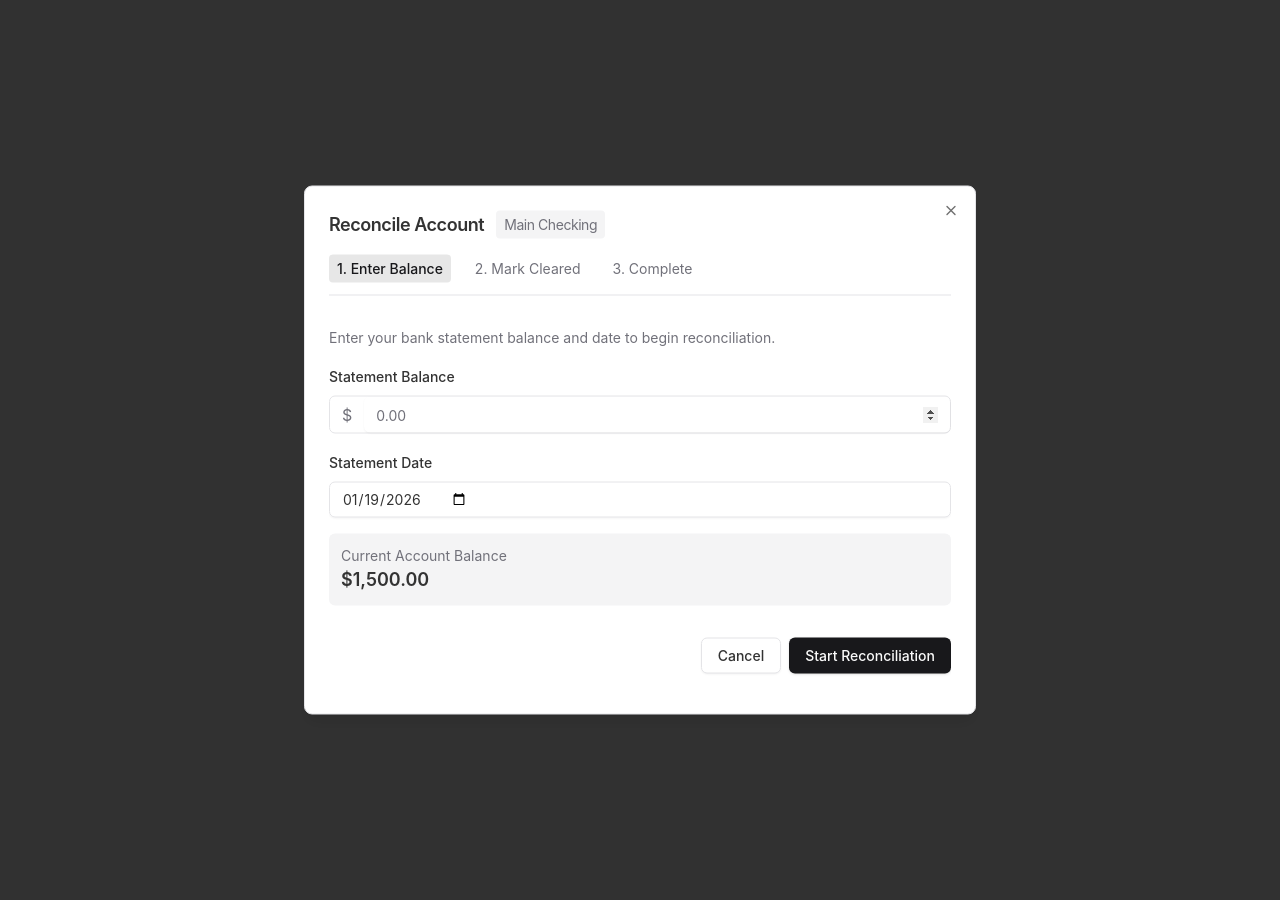
Test: ReconcileModal › Step 3 - Complete Reconciliation › should show success message when balanced
Type "1500.00" into the number field labelled "Statement Balance".
click(657, 414); type("1500.00")  # box x1=364 y1=396 x2=950 y2=432
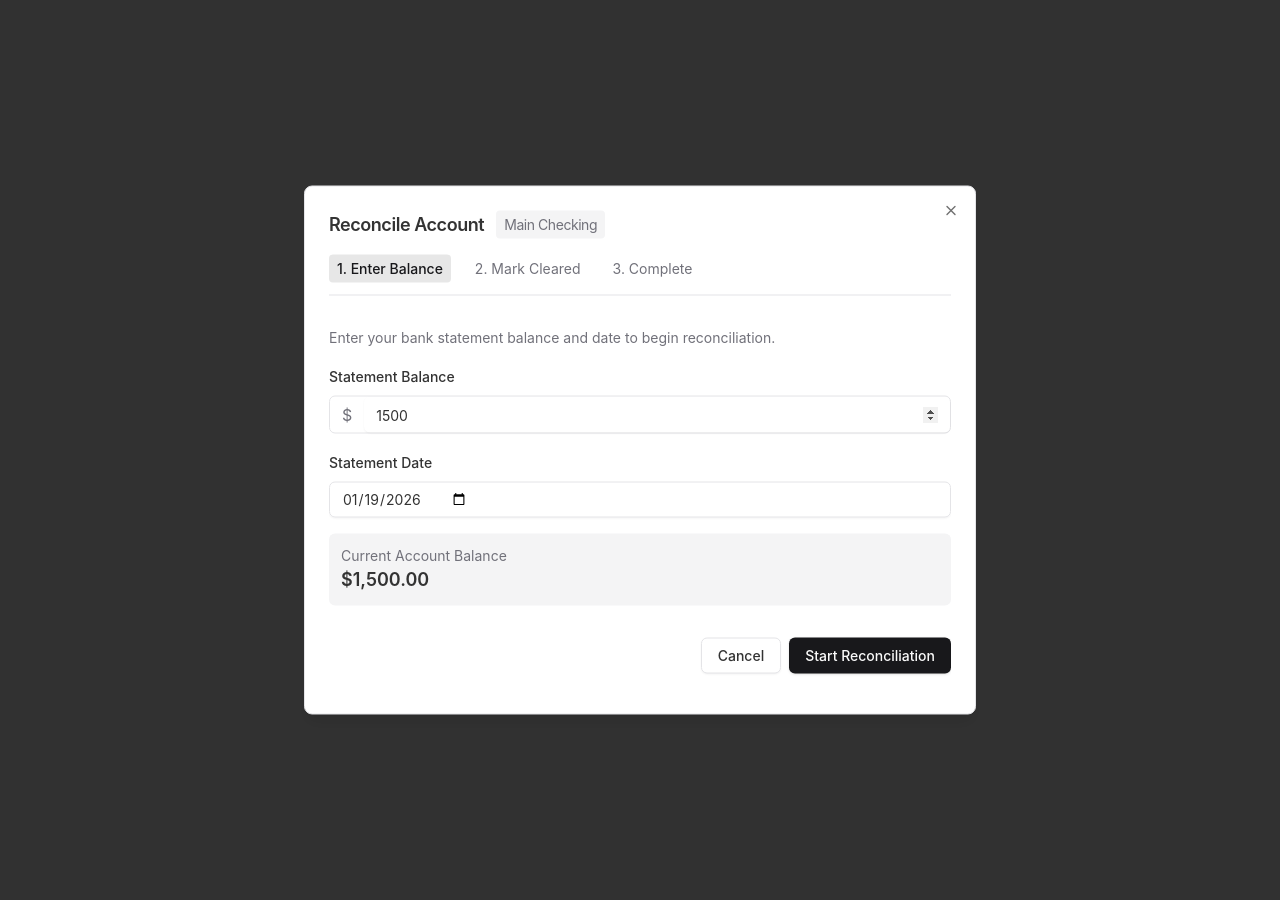
Click the button "Start Reconciliation".
click(870, 656)  # box x1=789 y1=638 x2=951 y2=674
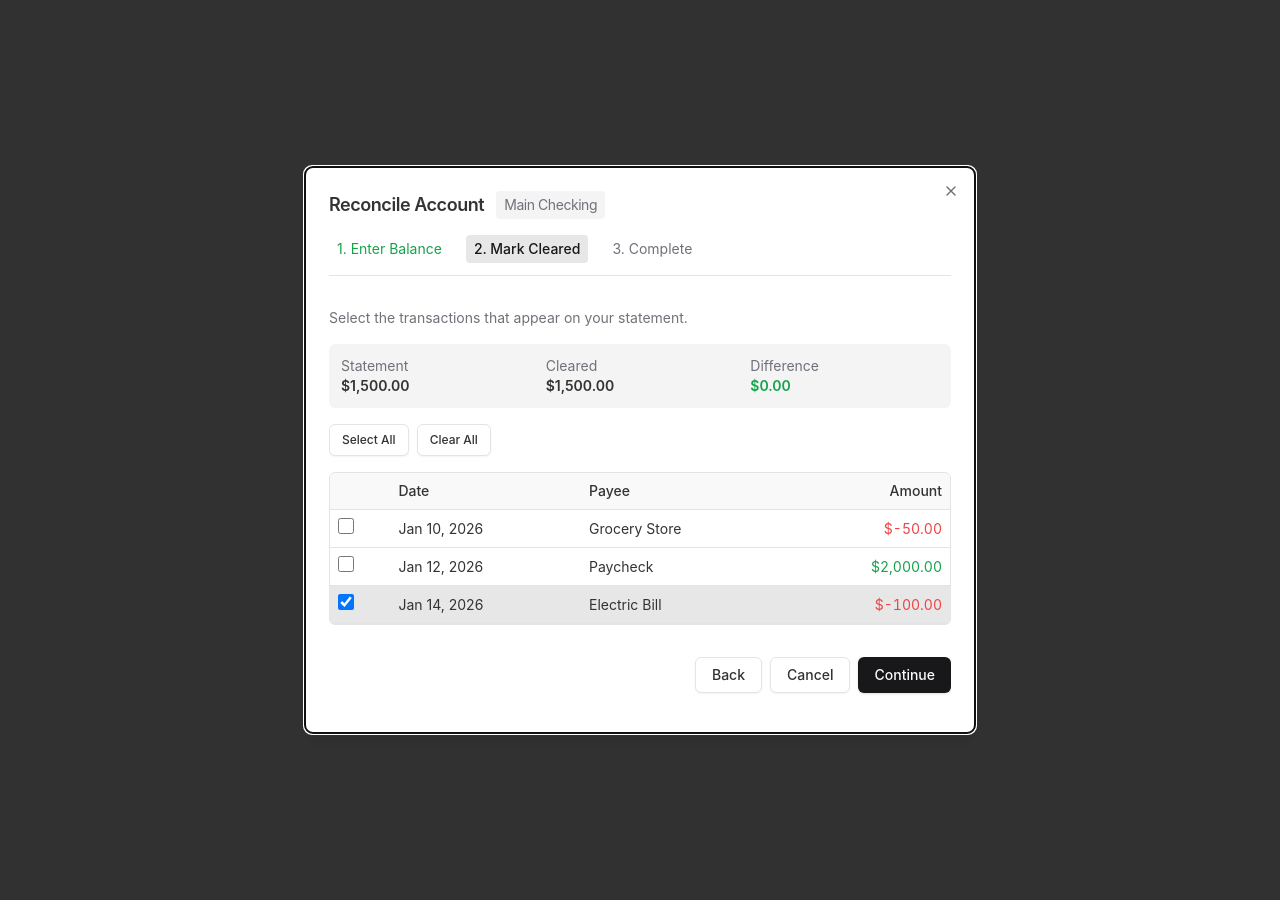
expect the text "Grocery Store" is shown: met, box x1=581 y1=510 x2=786 y2=548
Click the button "Continue".
click(905, 675)  # box x1=858 y1=657 x2=951 y2=693
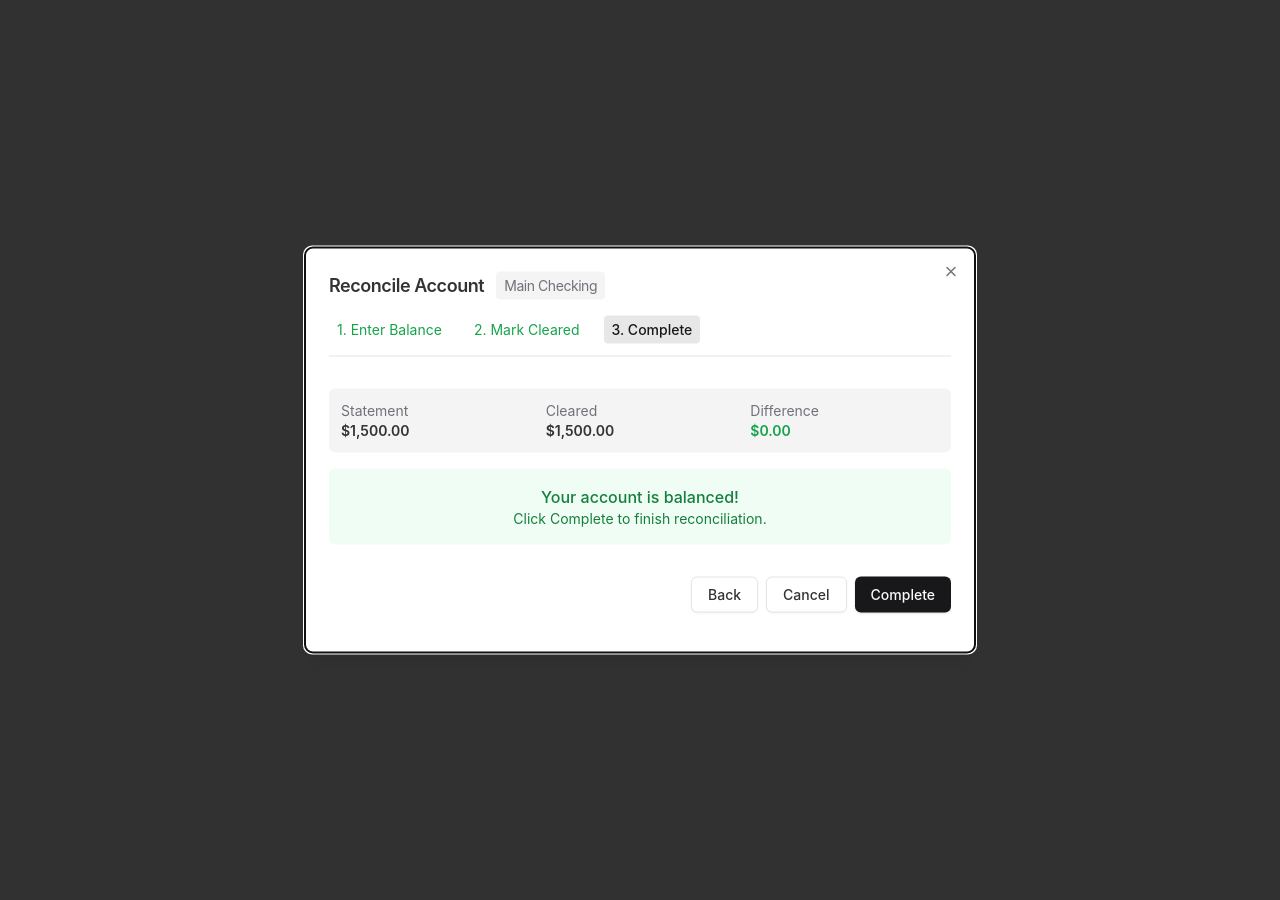
expect the button "Complete" is shown: met, box x1=855 y1=576 x2=951 y2=612
expect the text "Your account is balanced!" is shown: met, box x1=541 y1=486 x2=739 y2=506
